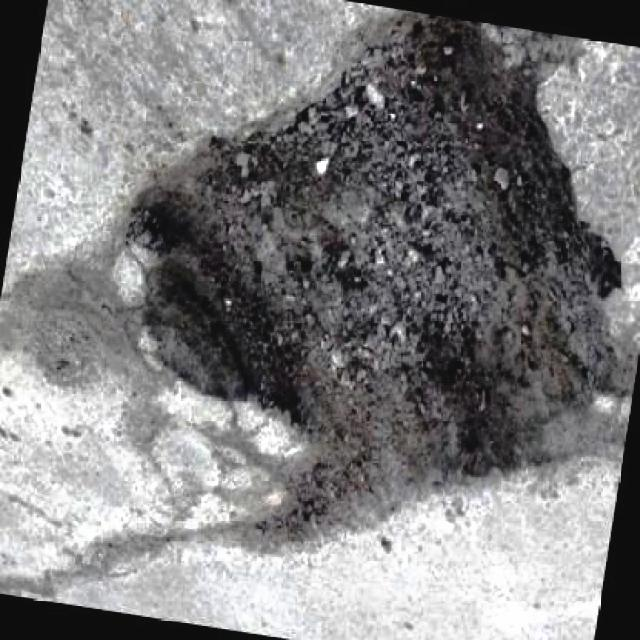pothole: (119, 14, 622, 521)
